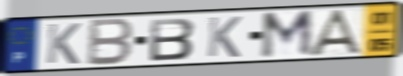A: (307, 8, 368, 57)
B: (84, 17, 136, 67), (148, 16, 197, 63)
K: (44, 22, 82, 66), (205, 15, 243, 59)
M: (258, 8, 315, 61)
